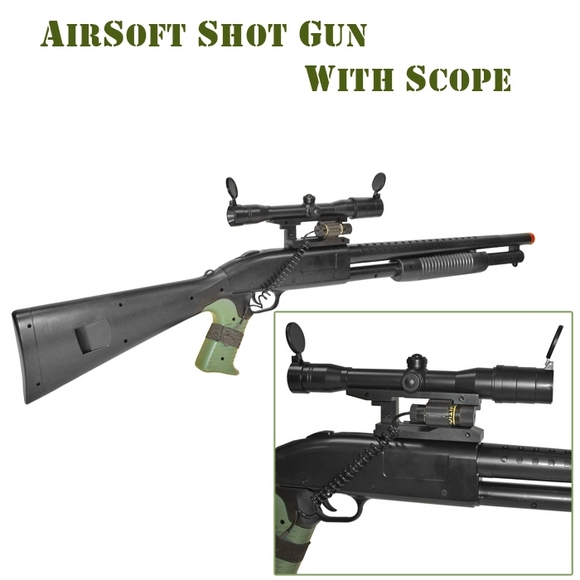rifle: (14, 172, 539, 332), (290, 329, 572, 565)
